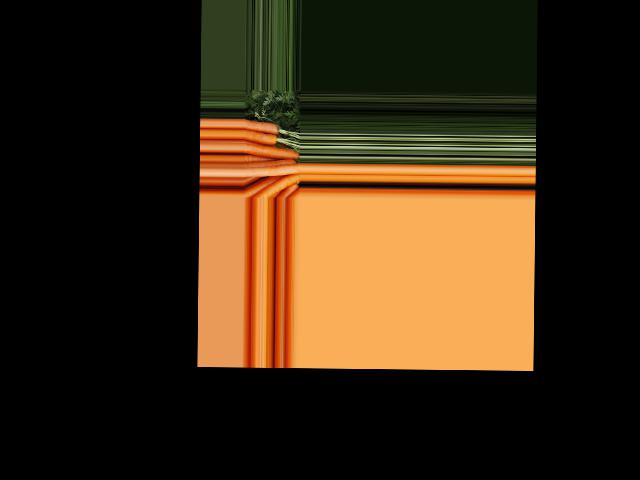carrot: (255, 175, 298, 197)
